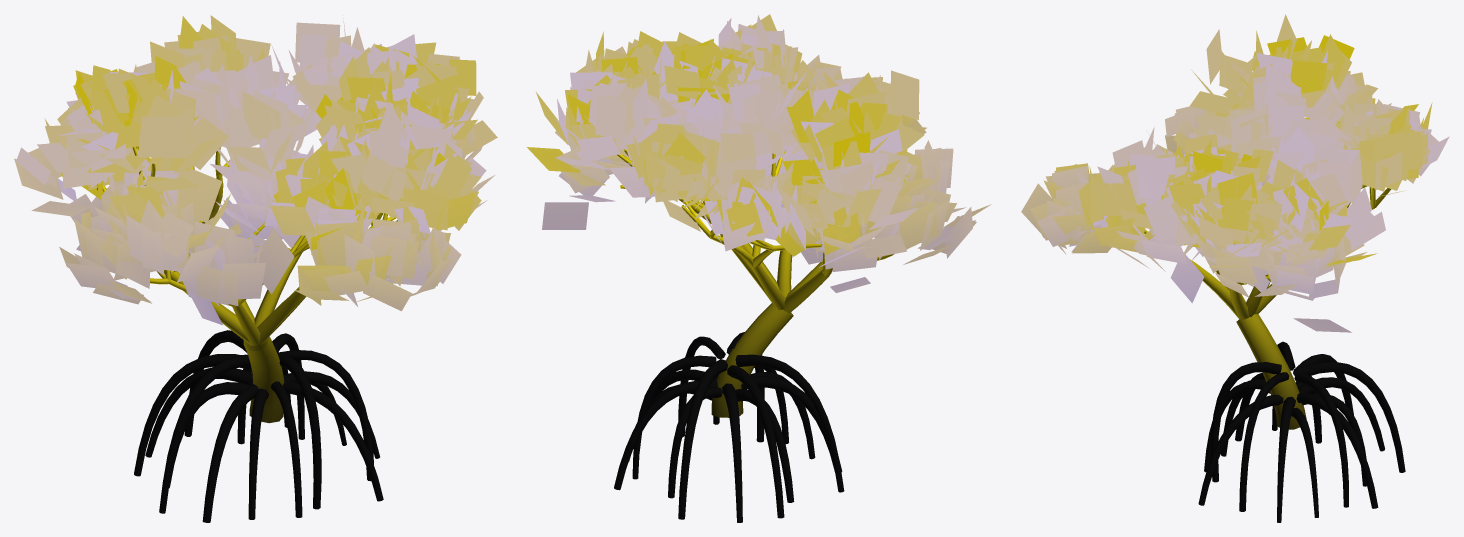
Rendered from mangrove_low.glb.
The picture shows the model from 3 angles, left to right: view 1: azimuth 30°, elevation 25°; view 2: azimuth 150°, elevation 25°; view 3: azimuth 270°, elevation 25°; orthographic projection. The views are drawn at different scales.
Parts seen in each view (by area): view 1: mangrove_low; view 2: mangrove_low; view 3: mangrove_low.
Part boxes in pixels (bbox=[...]): mangrove_low: bbox=[14, 15, 497, 522]; mangrove_low: bbox=[527, 14, 991, 522]; mangrove_low: bbox=[1021, 14, 1449, 522].
Size of what is drawn, in the model's own units: 9.45 by 9.56 by 9.45.
